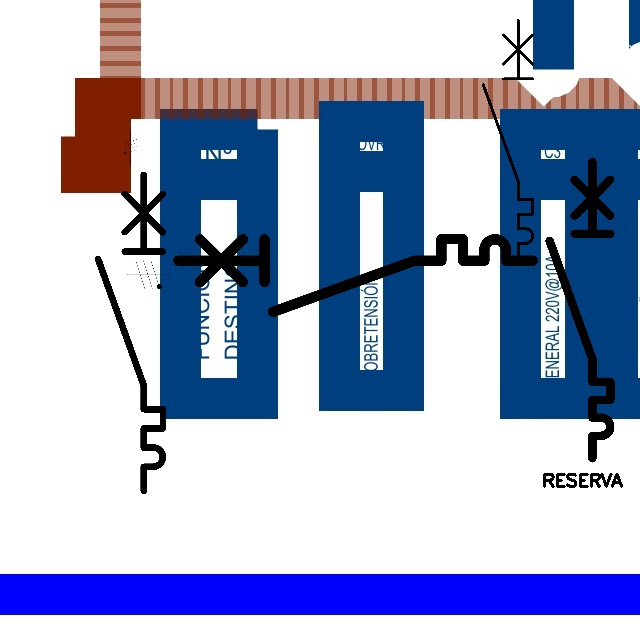interruptor_termomagnetico: (169, 230, 541, 321), (90, 166, 171, 498), (542, 154, 618, 466), (477, 14, 539, 268)
